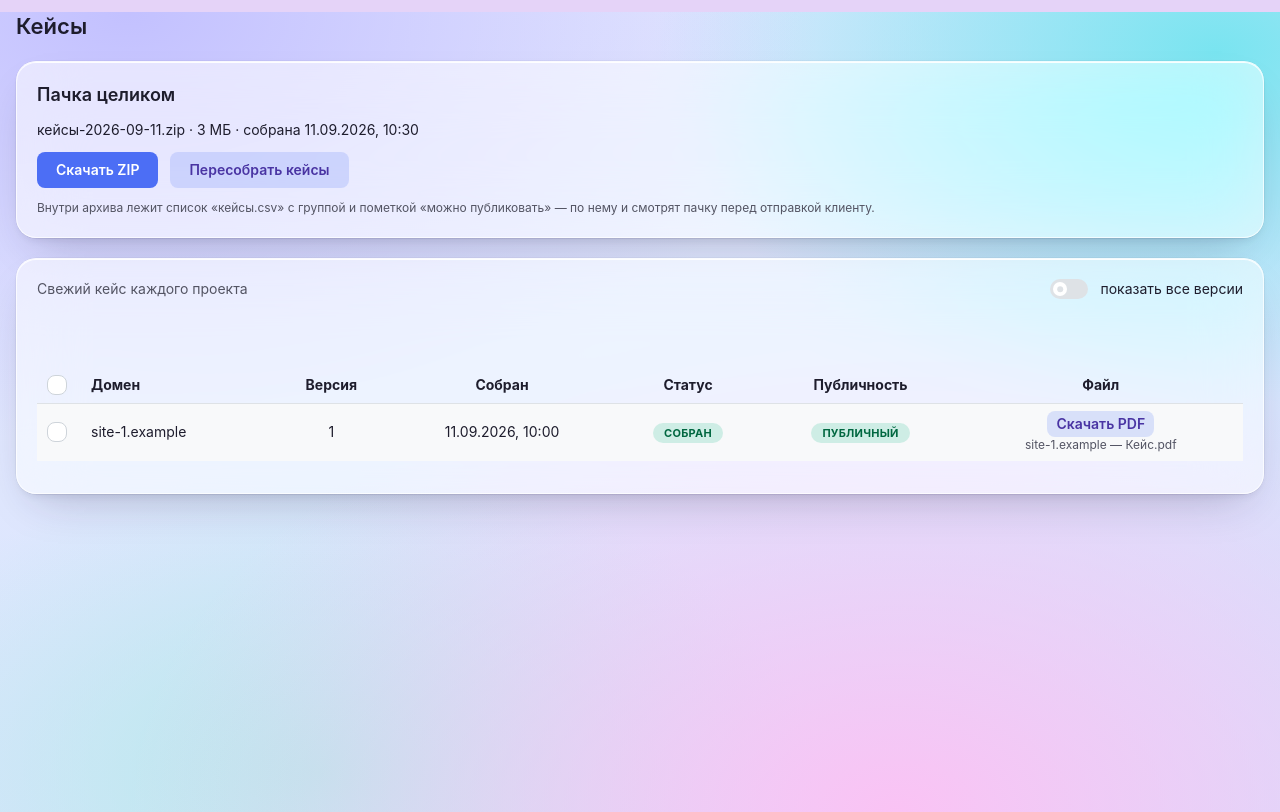
Scenario: пачка › E8: пересборка называет номер прогона и путь в журнал
The width and height of the screenshot is (1280, 812).
Click the button "Пересобрать кейсы".
click(259, 170)  # box [170, 152, 348, 188]
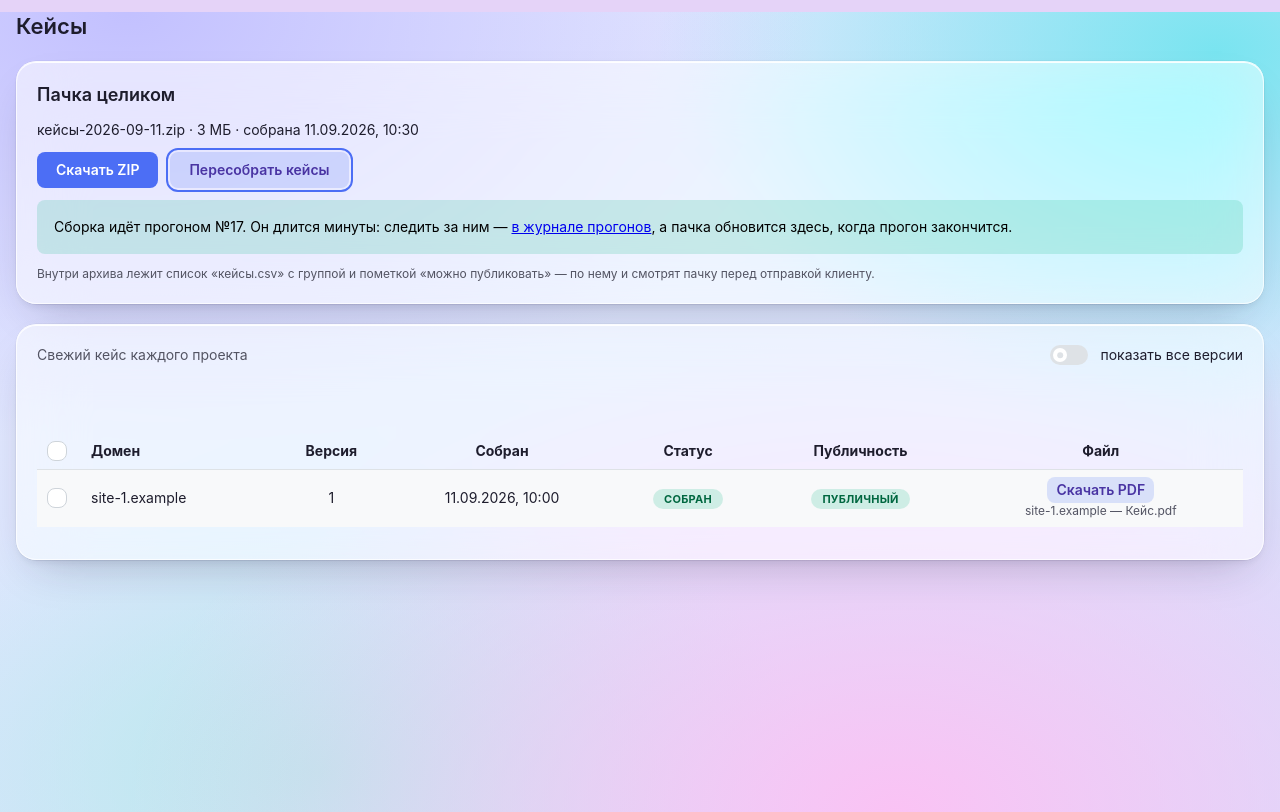
Expected: the text "№17" is shown, [54, 218, 1012, 235]
